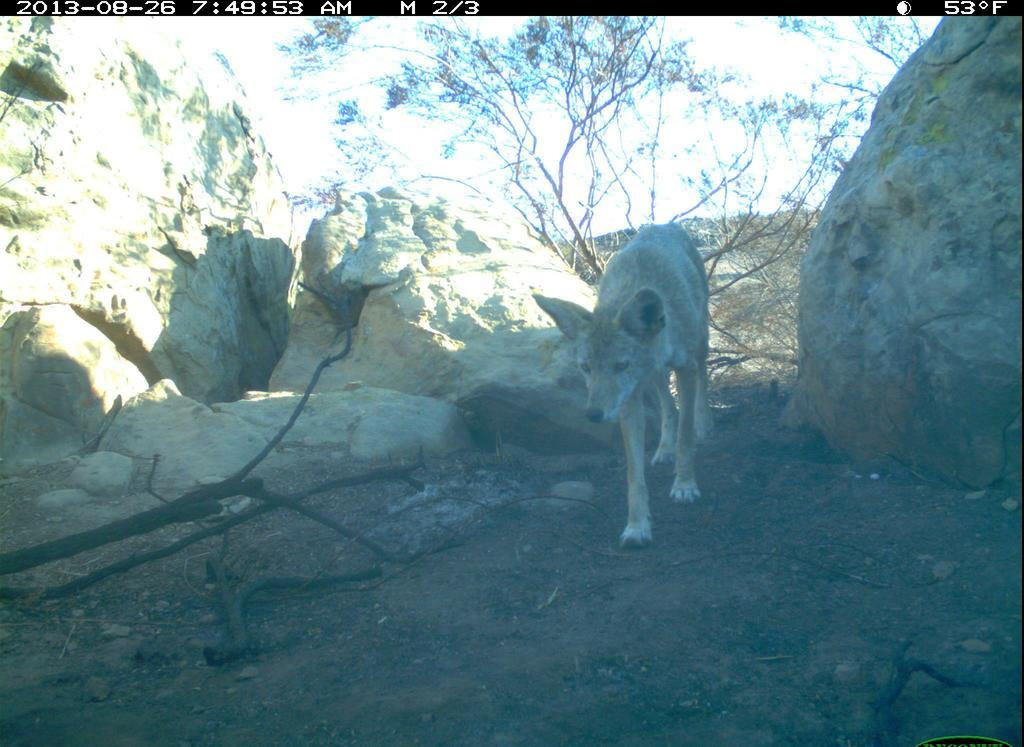coyote: (529, 212, 721, 566)
